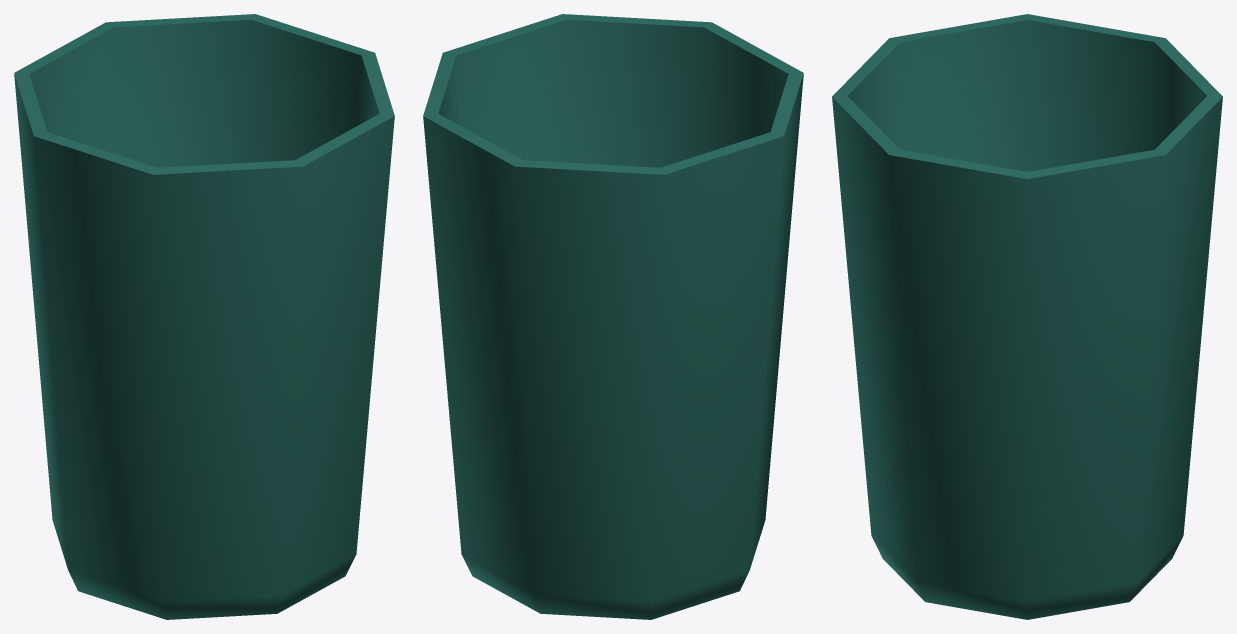
File: SM_glassware_03.fbx
The picture shows the model from 3 angles, left to right: view 1: azimuth 30°, elevation 25°; view 2: azimuth 150°, elevation 25°; view 3: azimuth 270°, elevation 25°; orthographic projection.
Visible parts, largest first — view 1: glassware_03; view 2: glassware_03; view 3: glassware_03.
Part boxes in pixels (x1,y1,x2,y2): glassware_03: (14, 14, 394, 619); glassware_03: (423, 14, 803, 619); glassware_03: (832, 14, 1222, 619).
Bounding box in the file's own units: 15.29 × 20.39 × 15.29.
